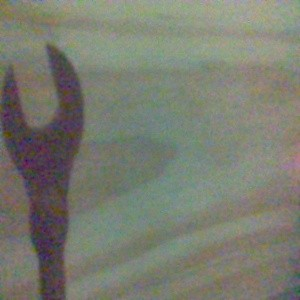spanner: (1, 42, 85, 300)
